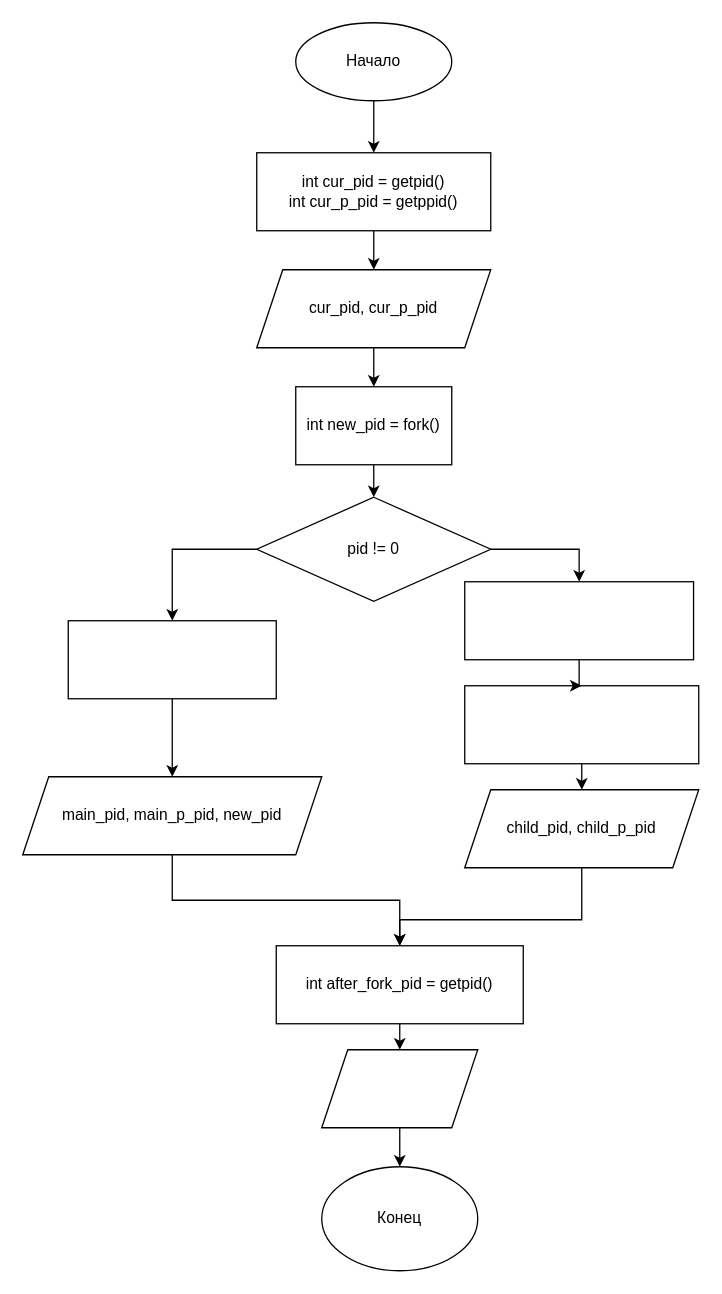
The diagram is 722 pixels wide and 1294 high, and some of its shapes have lost their labels. Here are the shapes that lost their labels. From the top down, the centre of each, then its label:
point 578,620: sleep(5)
point 171,659: int main_pid = getpid() int main_p_pid = getppid()
point 581,724: int child_pid = get_pid() int child_p_pid = getppid()
point 399,1088: after_fork_pid
